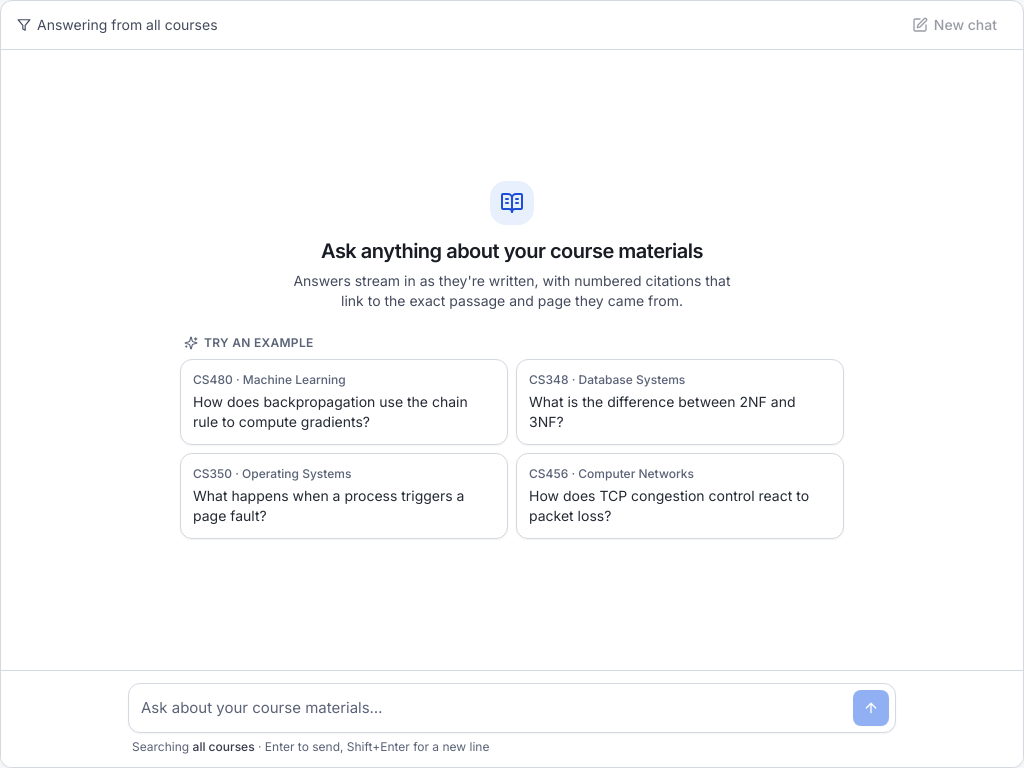
Test: ChatWindow › renders a friendly rate-limit message
Type "Q" into the text box named "Ask a question" at [493, 708], box [141,690,845,726]
Then press Enter
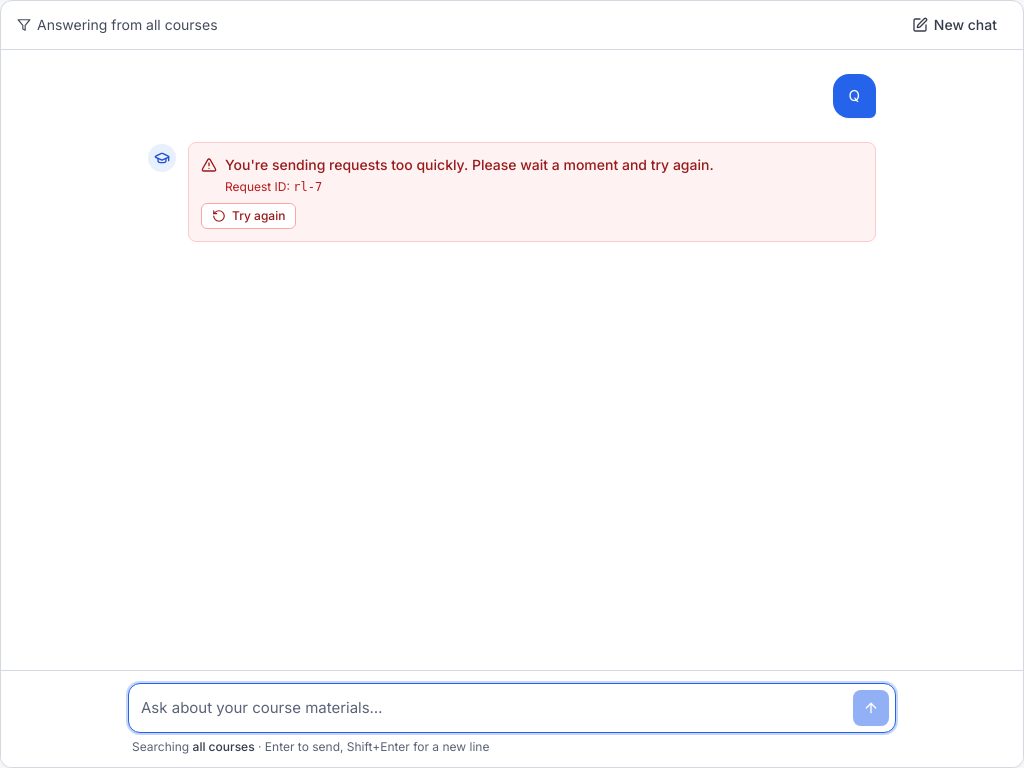
Now the message shows "You're sending requests too quickly. Please wait a moment and try again.", box [225,156,714,173]
Now the message shows "rl-7", box [293,180,322,194]
